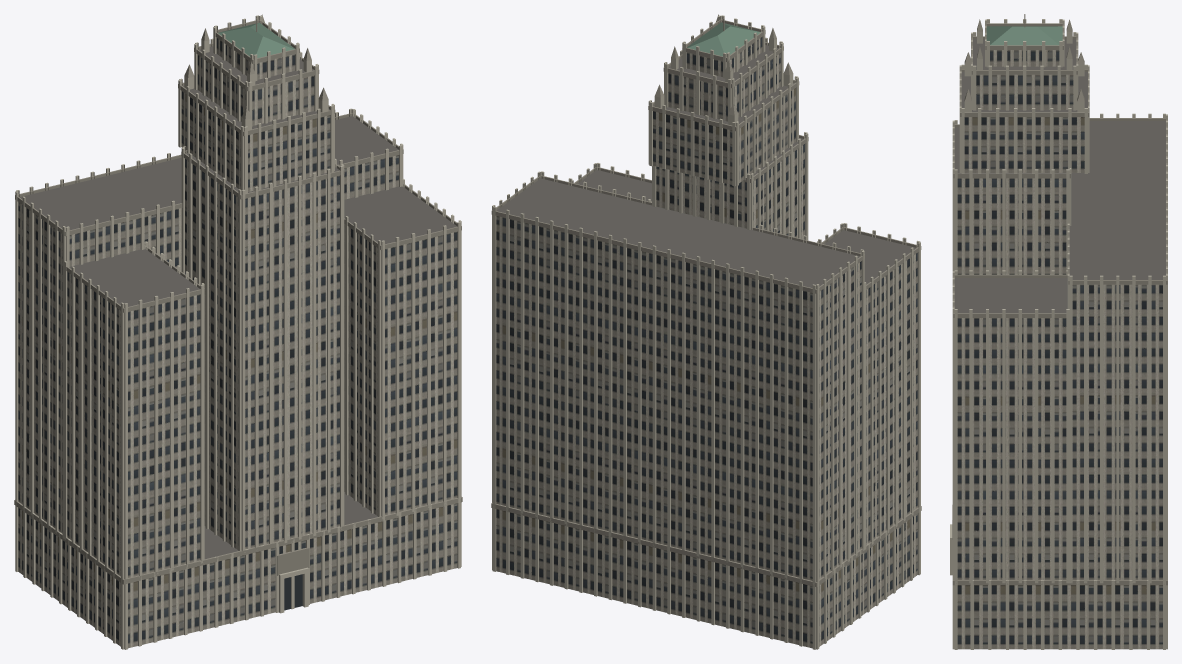
File: russ_building.glb
3 renders of one model, left to right at view 1: azimuth 30°, elevation 25°; view 2: azimuth 150°, elevation 25°; view 3: azimuth 270°, elevation 25°, orthographic. The views are drawn at different scales.
Visible parts, largest first — view 1: russ_building; view 2: russ_building; view 3: russ_building.
Part boxes in pixels (left/top/right/bottom): russ_building: left=14, top=14, right=462, bottom=649; russ_building: left=491, top=14, right=921, bottom=649; russ_building: left=950, top=14, right=1167, bottom=649.
Bounding box in the file's own units: 83.8 × 133 × 47.4.
Materials: 2 (2 with a texture image).
